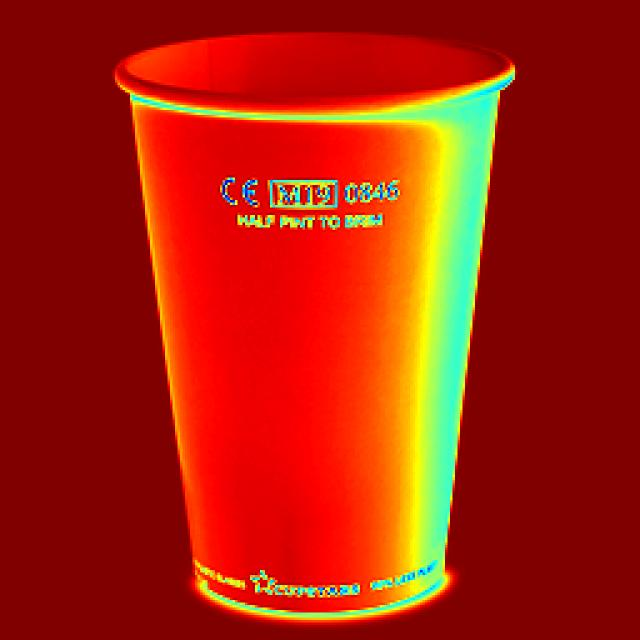Paper Cups: (106, 29, 512, 616)
